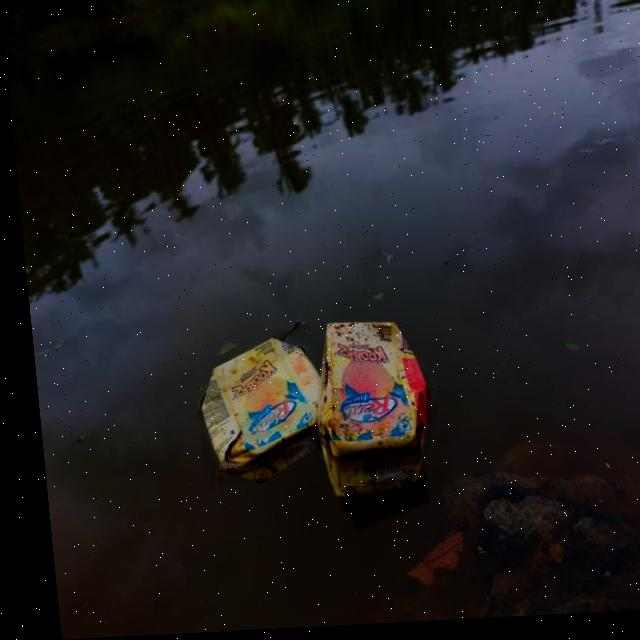paper: (153, 318, 313, 513), (307, 307, 447, 517)
